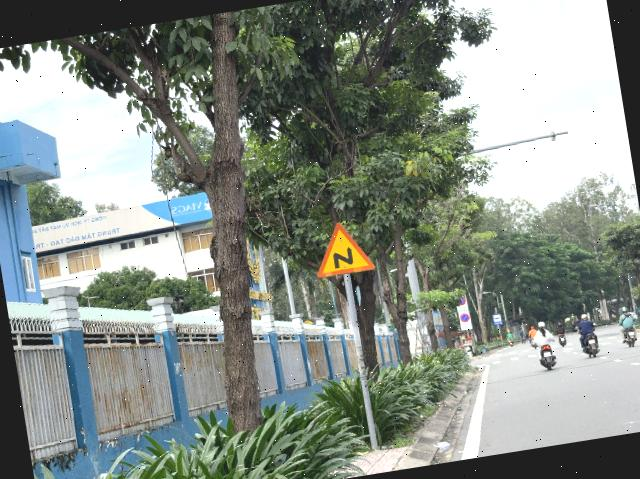nhieu-cho-ngoat-nguy-hiem-lien-tiep: (310, 218, 376, 278)
